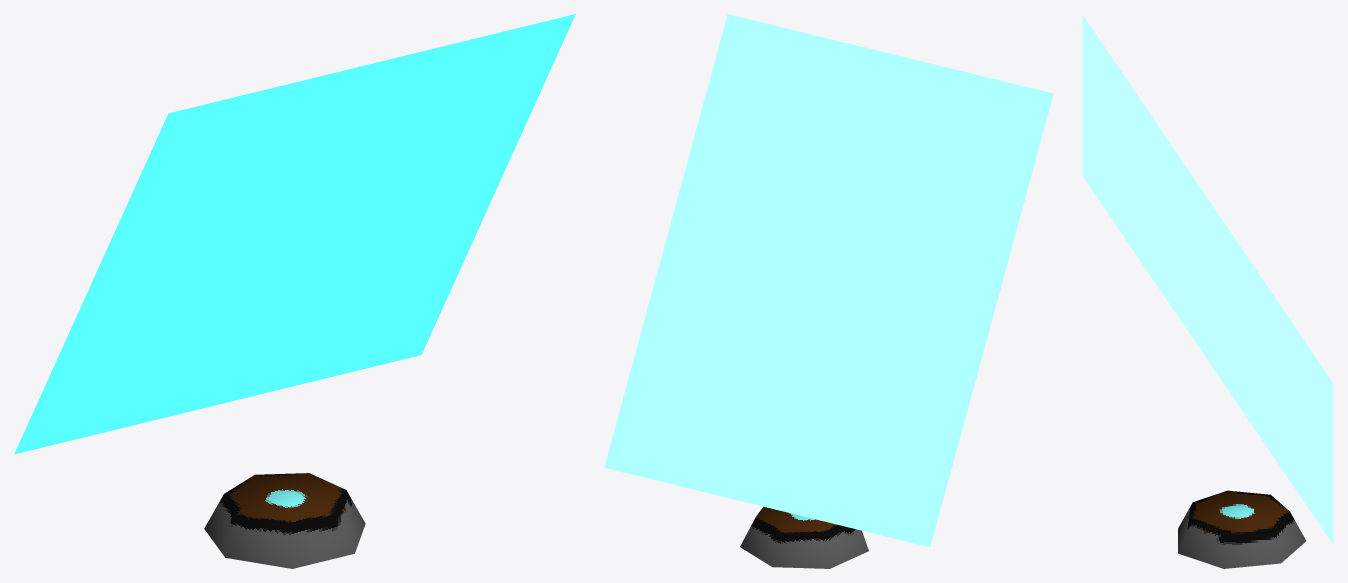
The model's file is amazoncafe_cardapio.glb.
The picture shows the model from 3 angles, left to right: view 1: azimuth 30°, elevation 25°; view 2: azimuth 150°, elevation 25°; view 3: azimuth 270°, elevation 25°; orthographic projection. The views are drawn at different scales.
Visible parts, largest first — view 1: Plane.002, Plane.001, Cylinder; view 2: Plane.002, cardapio, Cylinder; view 3: Plane.002, Cylinder, cardapio.
Boxes of the visible parts, x1,y1,x2,y2 form: Plane.002: [14, 14, 575, 454]; Plane.001: [132, 84, 480, 389]; Cylinder: [204, 473, 365, 568]; Plane.002: [604, 14, 1053, 547]; cardapio: [733, 141, 905, 390]; Cylinder: [740, 506, 868, 568]; Plane.002: [1082, 14, 1333, 544]; Cylinder: [1178, 490, 1306, 568]; cardapio: [1159, 148, 1282, 378].
Bounding box in the file's own units: 0.3588 × 0.4571 × 0.2354.
Materials: 4 (4 with a texture image).
